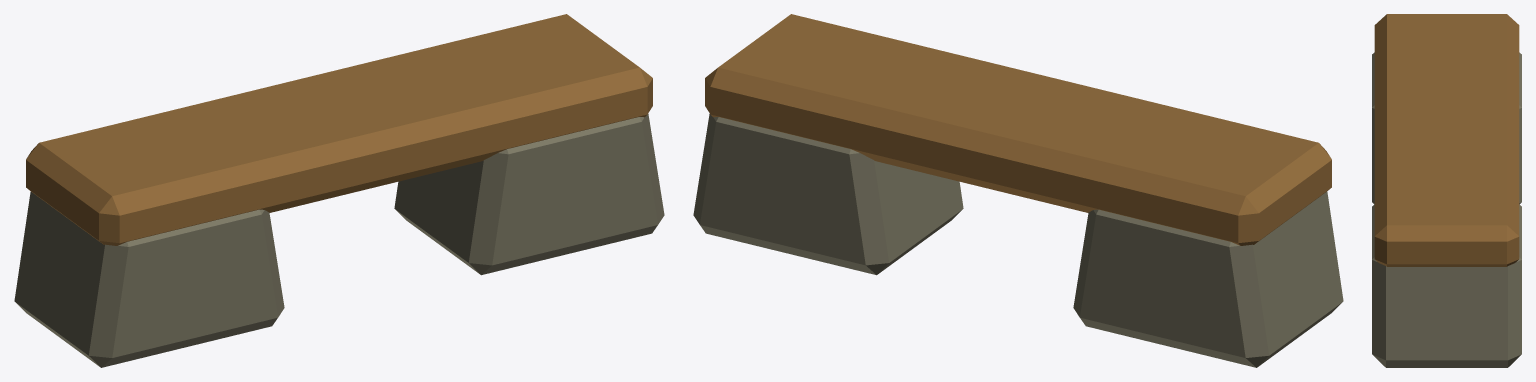
Rendered from VAULT_TIMBER_BRIDGE_END.lo.glb.
The picture shows the model from 3 angles, left to right: view 1: azimuth 30°, elevation 25°; view 2: azimuth 150°, elevation 25°; view 3: azimuth 270°, elevation 25°; orthographic projection. The views are drawn at different scales.
Visible parts, largest first — view 1: Body_Mesh; view 2: Body_Mesh; view 3: Body_Mesh.
Part boxes in pixels (x1,y1,x2,y2): Body_Mesh: (14, 14, 664, 367); Body_Mesh: (693, 14, 1343, 367); Body_Mesh: (1372, 14, 1521, 367).
Size of the model in its own units: 1.09 by 0.305 by 0.3.
